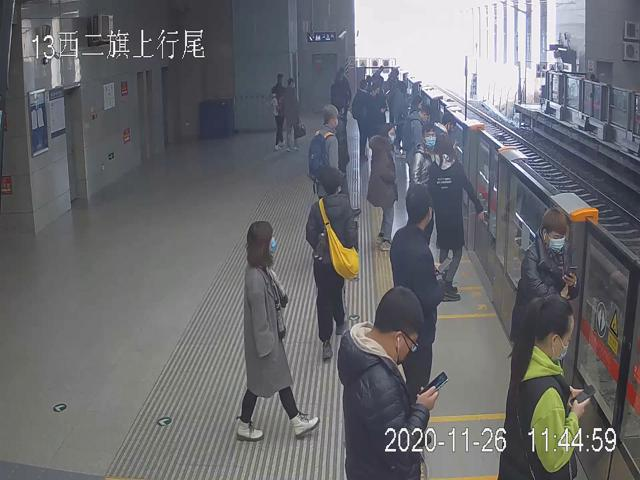person: (336, 285, 438, 480), (234, 220, 319, 440), (497, 294, 592, 480), (390, 186, 447, 452), (510, 205, 579, 364), (306, 166, 360, 360), (429, 131, 485, 302), (407, 123, 441, 277), (366, 122, 399, 252), (307, 104, 345, 198), (283, 76, 303, 152), (270, 70, 286, 150)
